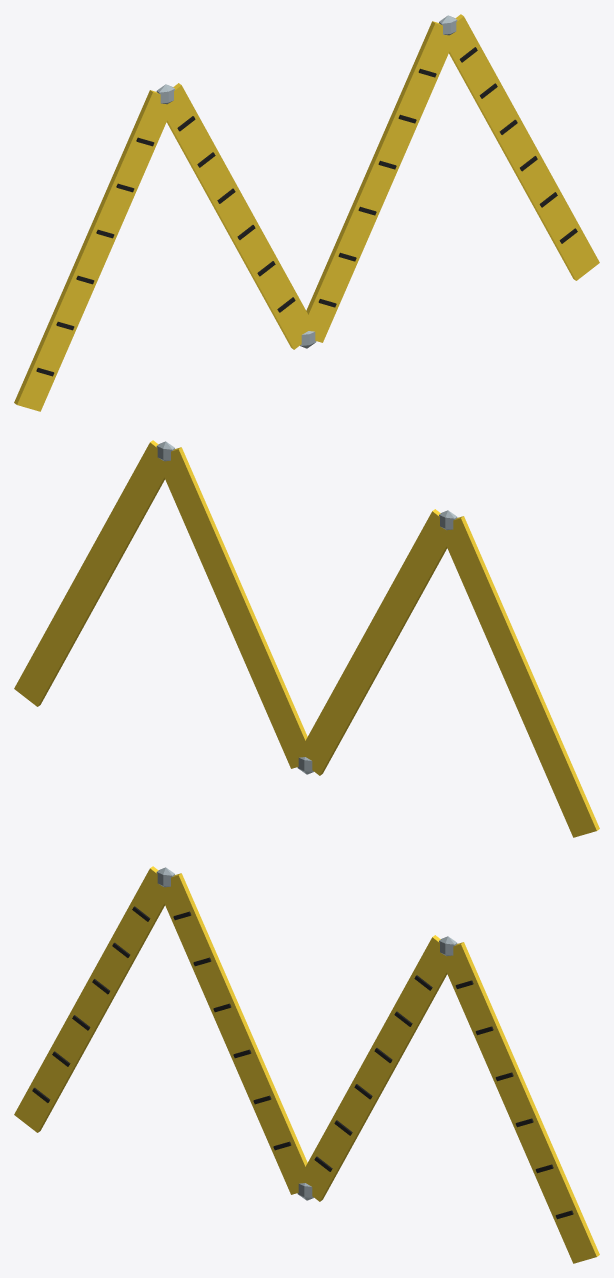
File: tumstock.glb
The picture shows the model from 3 angles, top to bottom: view 1: azimuth 30°, elevation 25°; view 2: azimuth 150°, elevation 25°; view 3: azimuth 330°, elevation 25°; orthographic projection.
Parts seen in each view (by area): view 1: tumstock; view 2: tumstock; view 3: tumstock.
Boxes of the visible parts, x1,y1,x2,y2 form: tumstock: (14,14,599,411); tumstock: (14,440,599,837); tumstock: (14,866,599,1263).
Size of the model in its own units: 0.661 by 0.324 by 0.0104.
